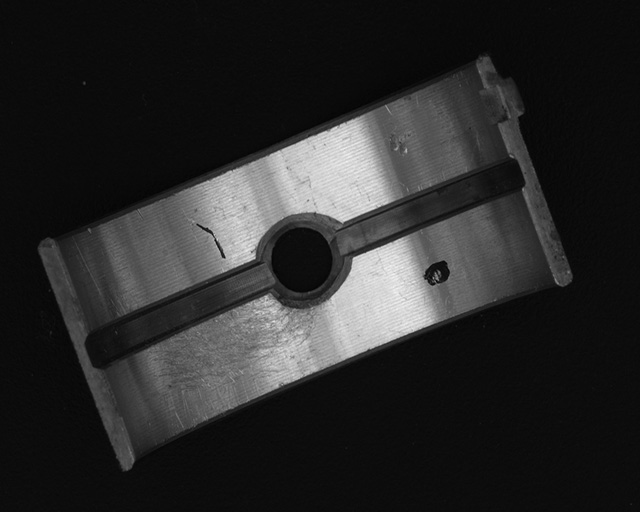blot: (422, 260, 451, 287)
bruise: (385, 128, 414, 157)
gap: (86, 261, 276, 368), (339, 162, 523, 256)
hole: (260, 218, 346, 305)
nick: (194, 222, 226, 262)
scratch: (151, 290, 322, 431)
